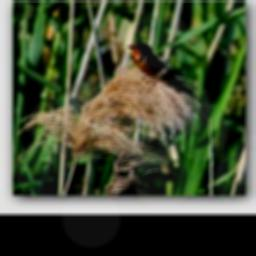Swallow: (123, 40, 201, 100)
